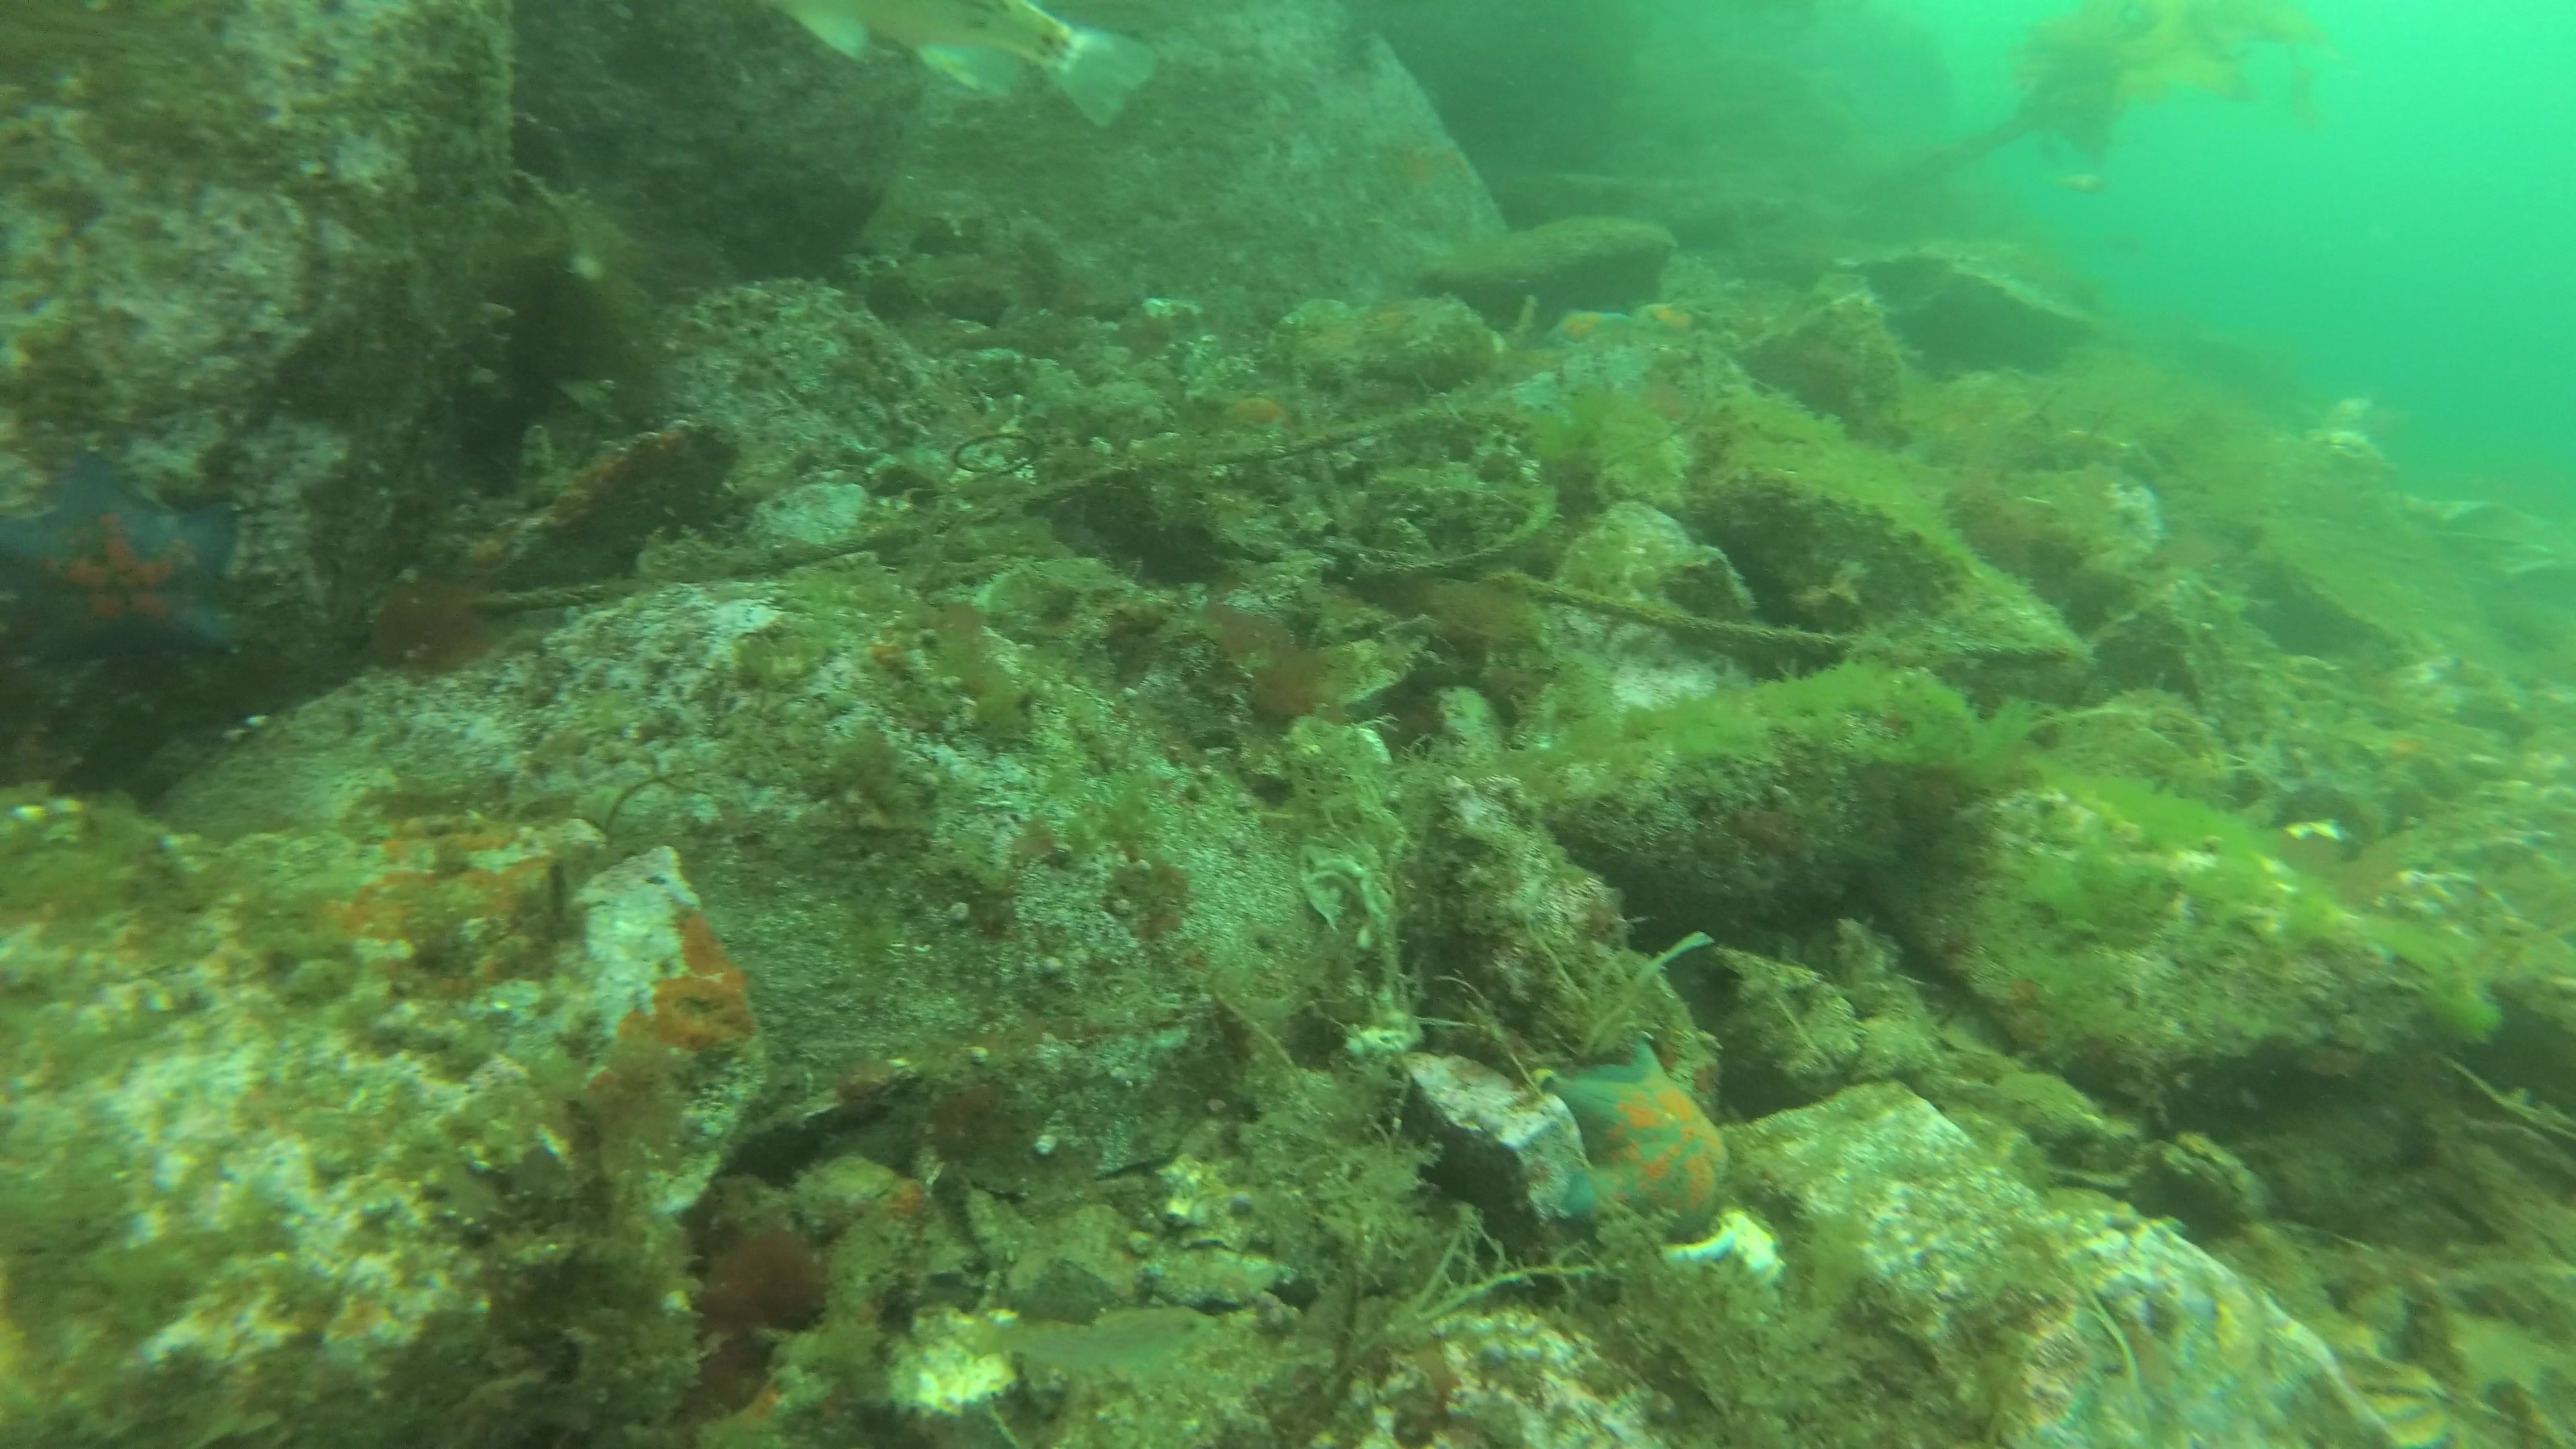starfish: (0, 444, 248, 671), (1545, 1030, 1732, 1238), (1543, 306, 1637, 349), (1635, 301, 1698, 336)
